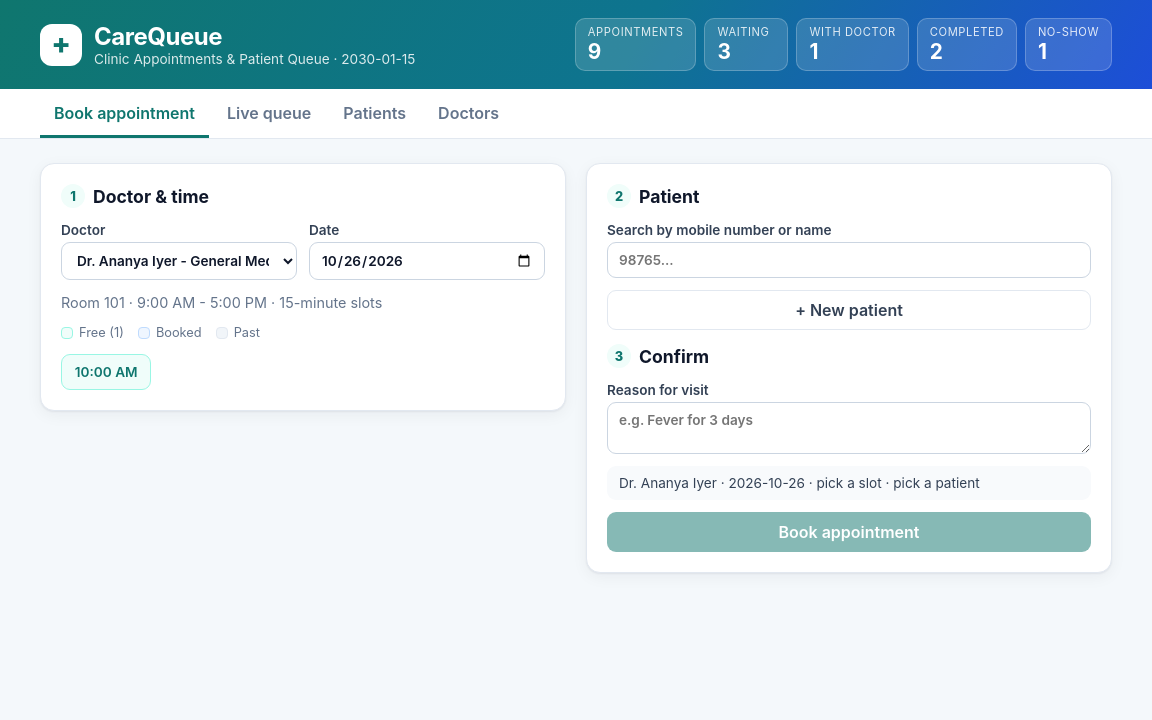
App › switches to the live queue and shows who is being served
The width and height of the screenshot is (1152, 720).
Click the link "Live queue" at [269, 113], box 227,103 -> 311,123
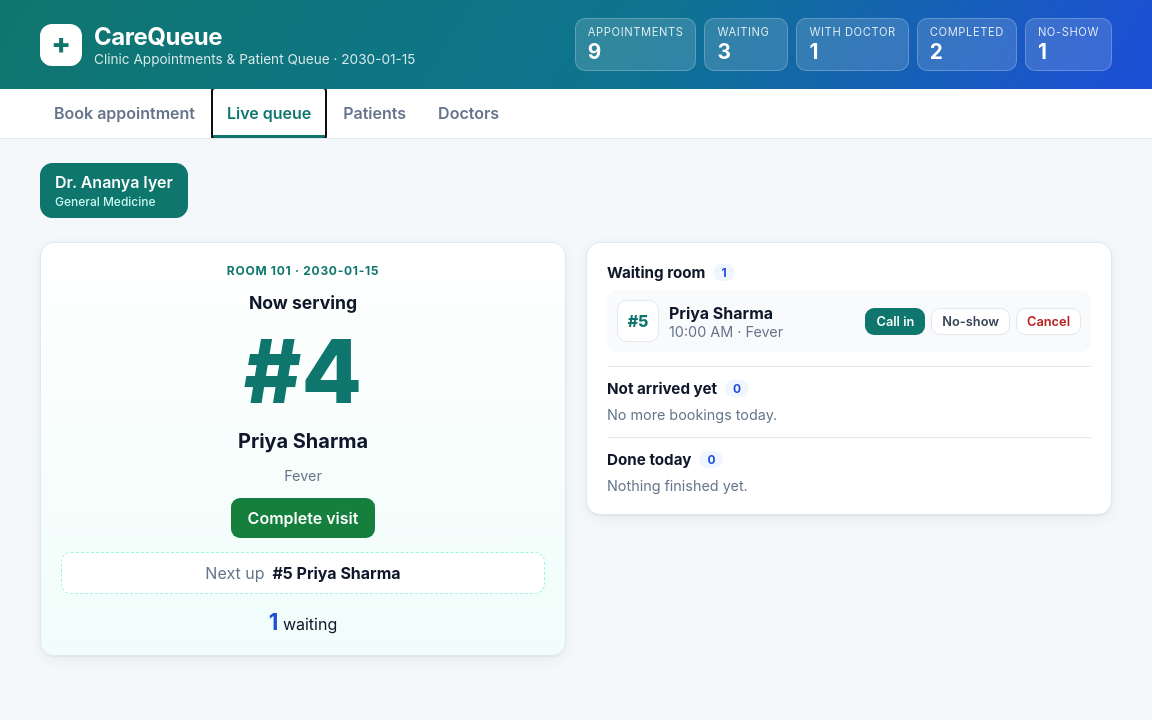
Check: the text "#4" is shown, box 244,327 -> 362,415
Check: the heading "Now serving" is shown, box 249,292 -> 357,313
Check: the text "#5 Priya Sharma" is shown, box 272,563 -> 401,583
